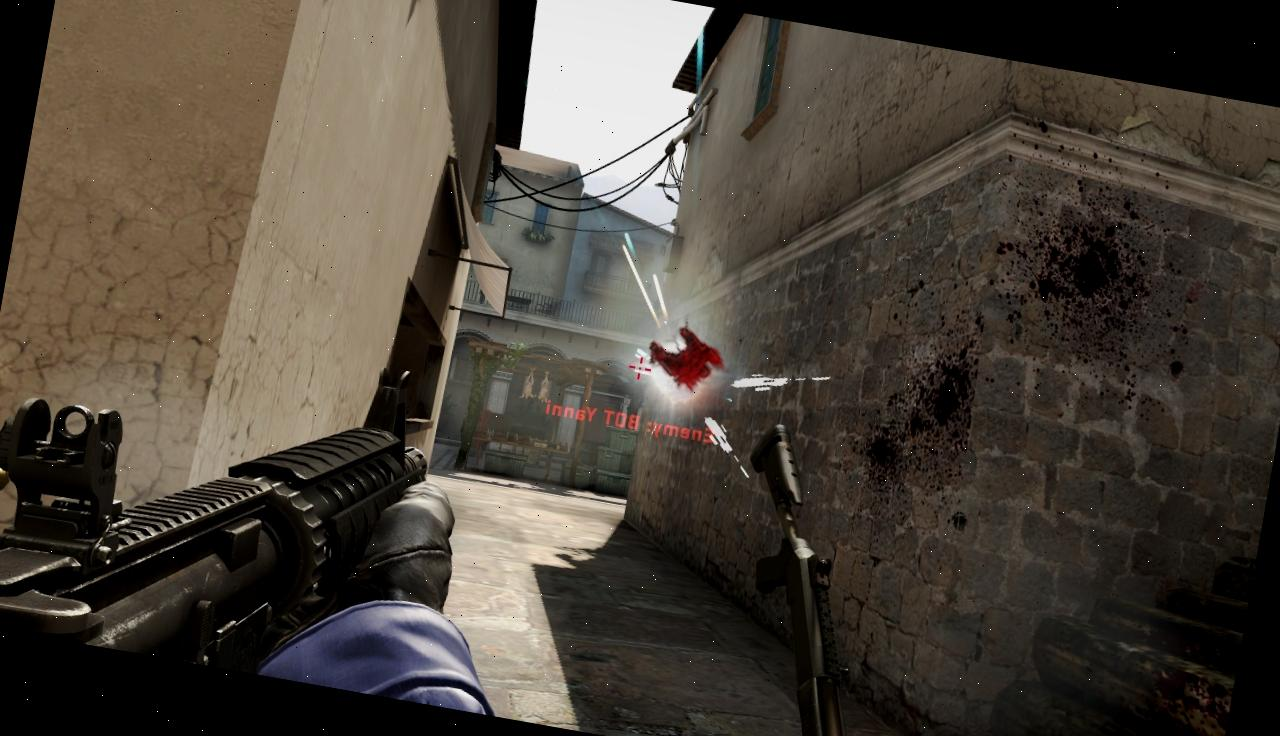rifle: (0, 298, 453, 699)
